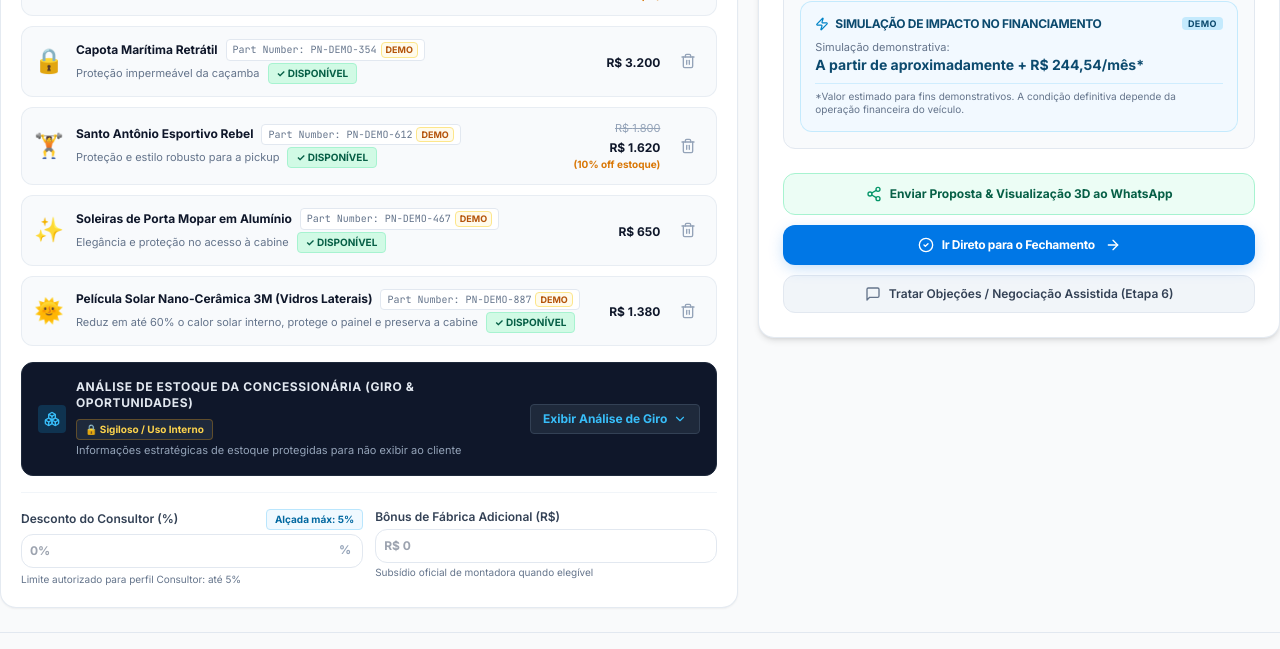
Test: Novas Funcionalidades: Análise de Estoque, Fechamento e Simulador de Telas › renderiza a tela de Investimento (Etapa 5) com Análise de Estoque da Concessionária e Botão Direto para Fechamento
(page scrolled)
Expected: the button "Ir Direto para o Fechamento" is shown, [783,225,1255,265]
Expected: the heading "Análise de Estoque da Concessionária (Giro & Oportunidades)" is shown, [76,379,414,410]
Click the button "Exibir Análise de Giro".
click(615, 419)  # box [530,404,700,434]
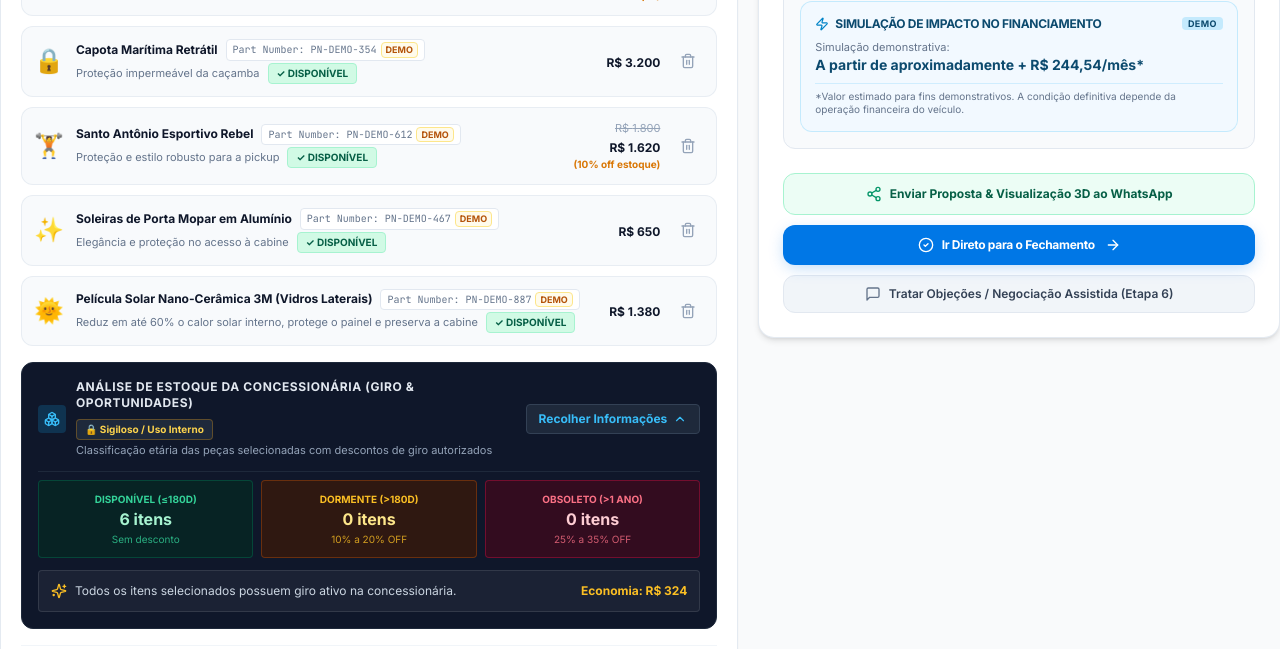
Expected: the text "Disponível (≤180d)" is shown, [95,492,197,504]
Expected: the text "Dormente (>180d)" is shown, [320,492,419,504]
Expected: the text "Obsoleto (>1 ano)" is shown, [542,492,643,504]
Click the button "Recolher Informações".
click(613, 419)  # box [526,404,700,434]
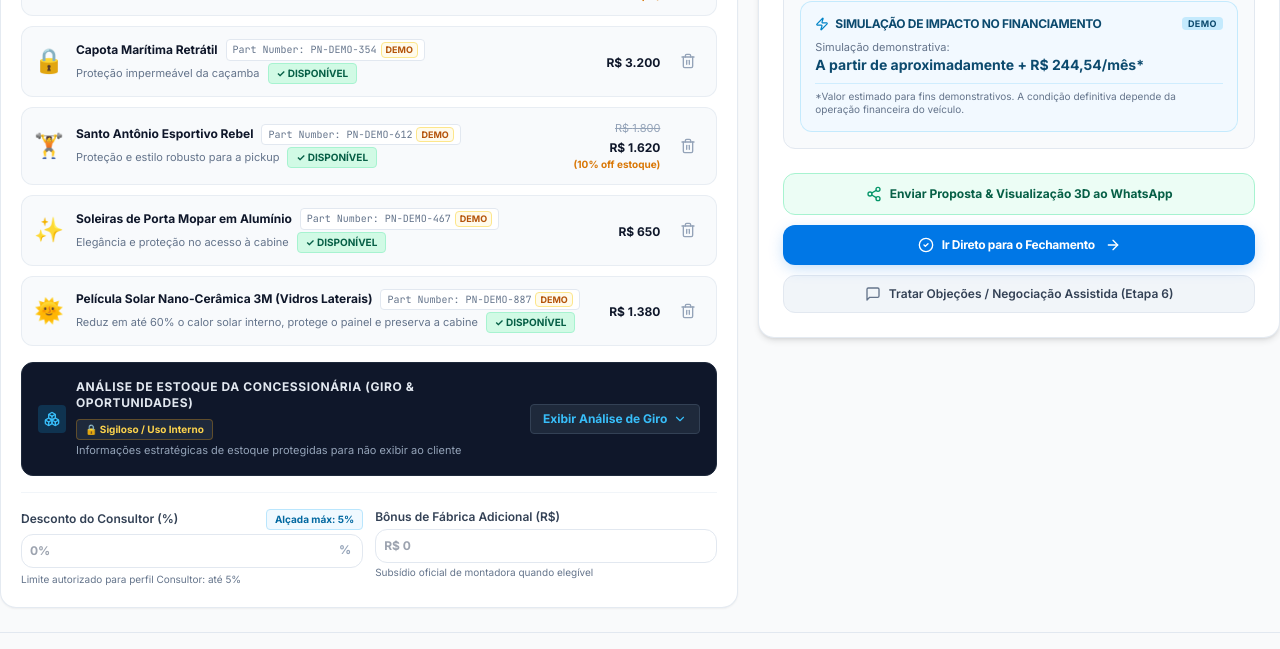
Expected: the text "Disponível (≤180d)" is gone
